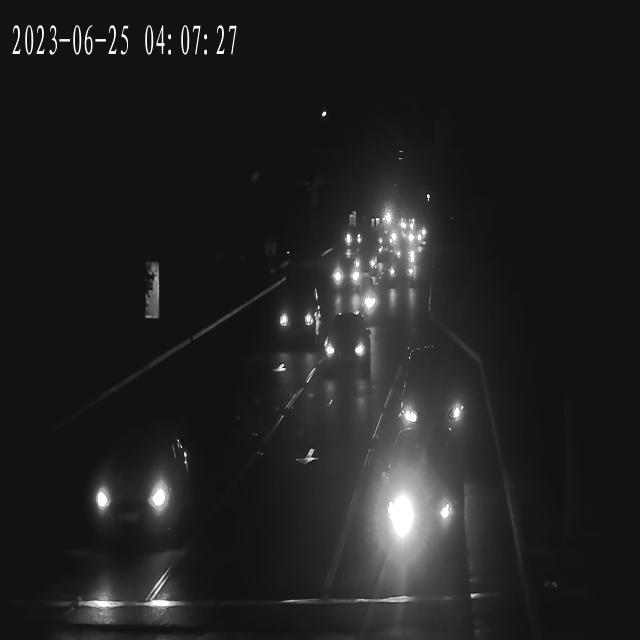Car: (78, 430, 192, 544), (359, 437, 464, 549), (396, 364, 469, 444), (270, 293, 321, 349), (323, 321, 373, 372), (332, 260, 366, 291), (378, 257, 401, 289), (350, 248, 377, 274), (375, 230, 403, 254), (340, 228, 364, 248), (404, 263, 422, 289), (406, 229, 429, 246)
